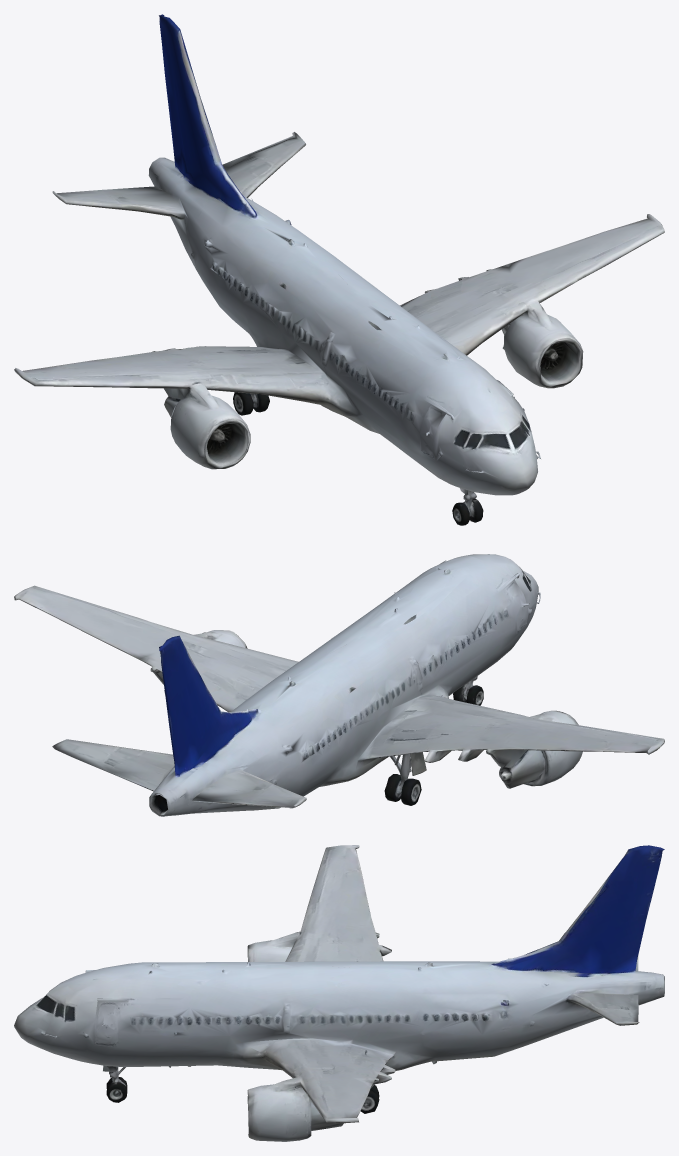
Rendered from cargo_plane.glb.
3 renders of one model, top to bottom at view 1: azimuth 30°, elevation 25°; view 2: azimuth 150°, elevation 25°; view 3: azimuth 270°, elevation 25°, orthographic. The views are drawn at different scales.
Visible parts, largest first — view 1: tripo_node_70526290-07da-468c-a471-a883ab244e8d; view 2: tripo_node_70526290-07da-468c-a471-a883ab244e8d; view 3: tripo_node_70526290-07da-468c-a471-a883ab244e8d.
Boxes of the visible parts, box(x1,y1,x2,y2) form: tripo_node_70526290-07da-468c-a471-a883ab244e8d: box(14, 14, 664, 525); tripo_node_70526290-07da-468c-a471-a883ab244e8d: box(14, 554, 664, 816); tripo_node_70526290-07da-468c-a471-a883ab244e8d: box(14, 845, 664, 1141).
Bounding box in the file's own units: 1 × 0.4285 × 0.9979.
1 material, 1 textured.
